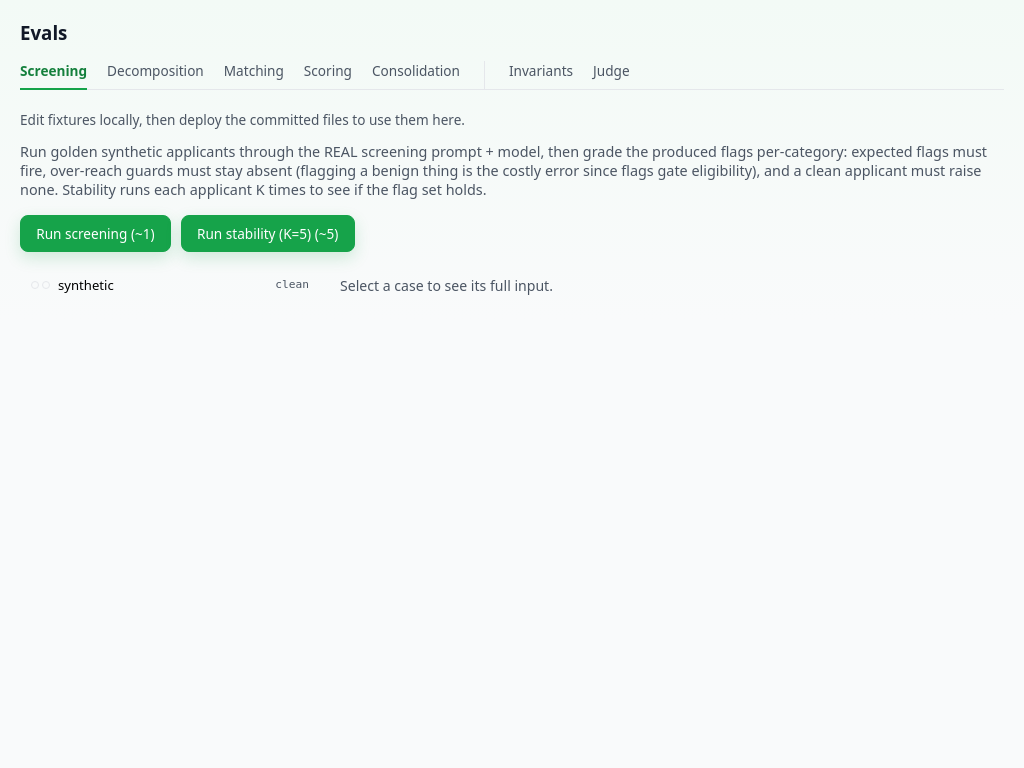
Test: keeps hosted cases and run controls while hiding every corpus write control
Expected: the text "Edit fixtures locally" is shown, [20,110,465,129]
Click the button "synthetic clean" at (86, 285), box [20,268,320,302]
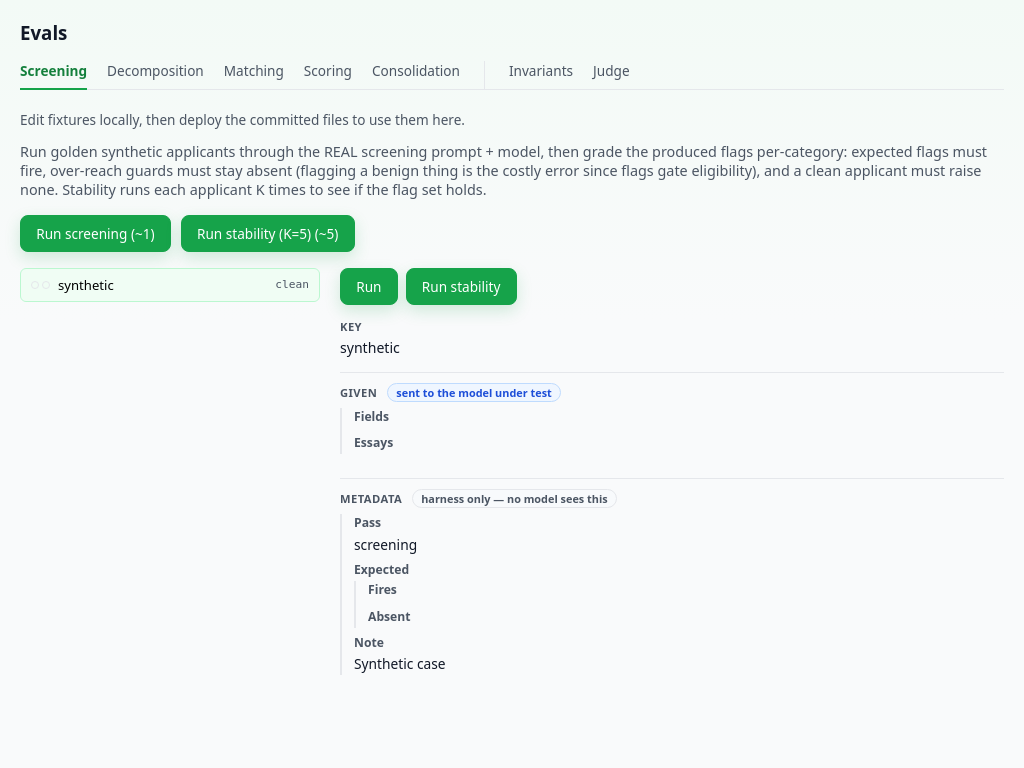
Click the button "Run screening (~1)" at (95, 233), box [20,215,171,252]
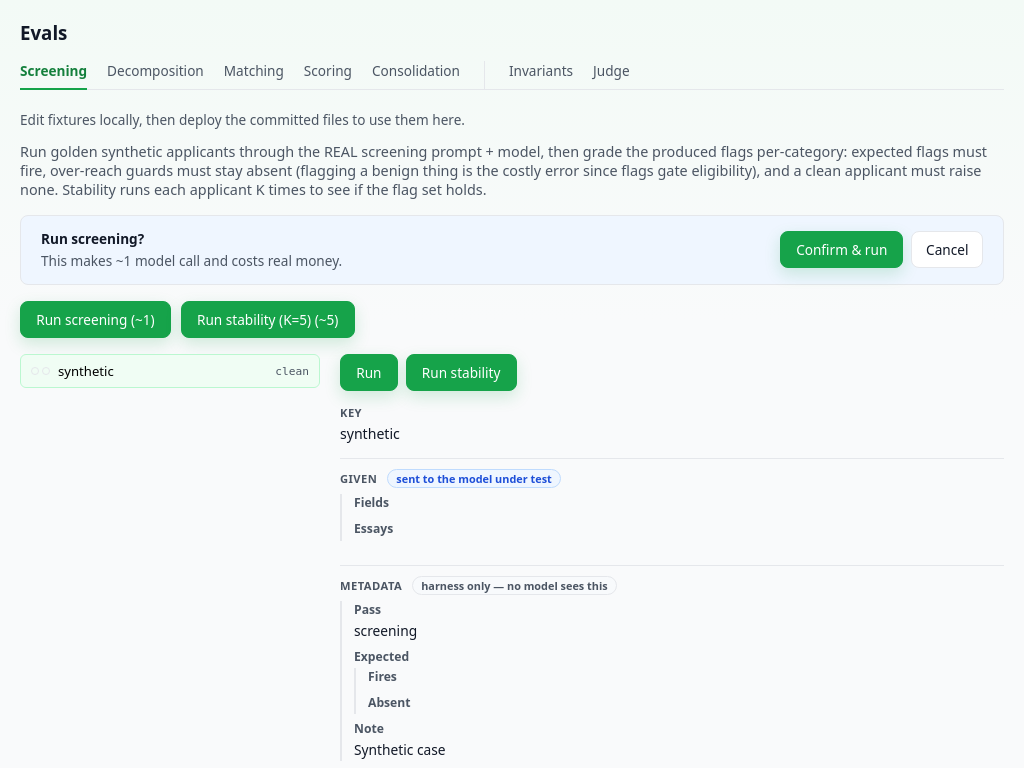
Result: the text "This makes ~1 model call and costs real money." is shown at [41,252,342,270]
Click the button "Cancel" at (947, 250), box [912,231,983,268]
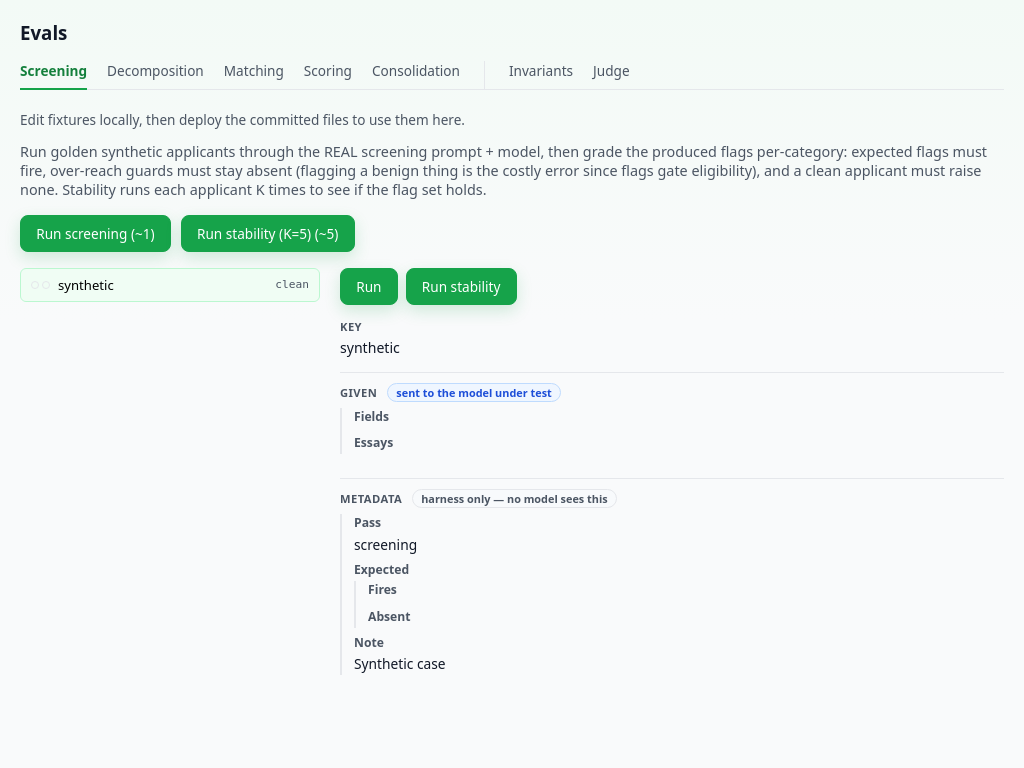
Click the tab "Judge" at (611, 76), box [593,61,630,90]
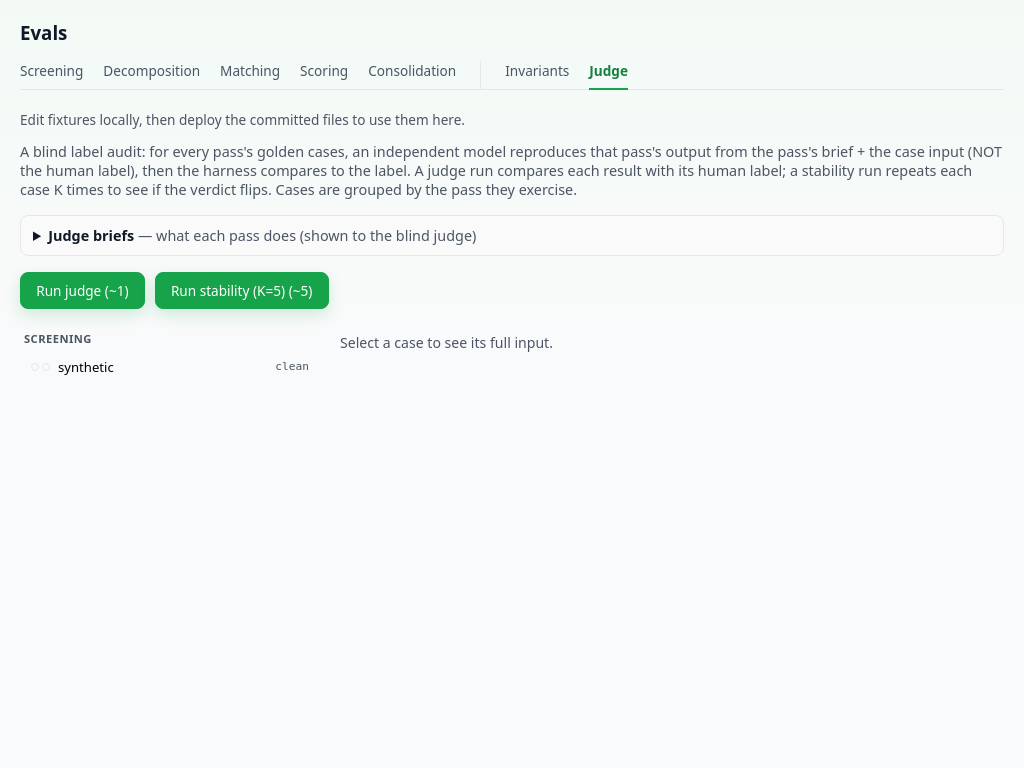
Result: the button "Run judge (~1)" is enabled at [20,272,145,309]
Click the tab "Invariants" at (537, 76), box [505,61,569,90]
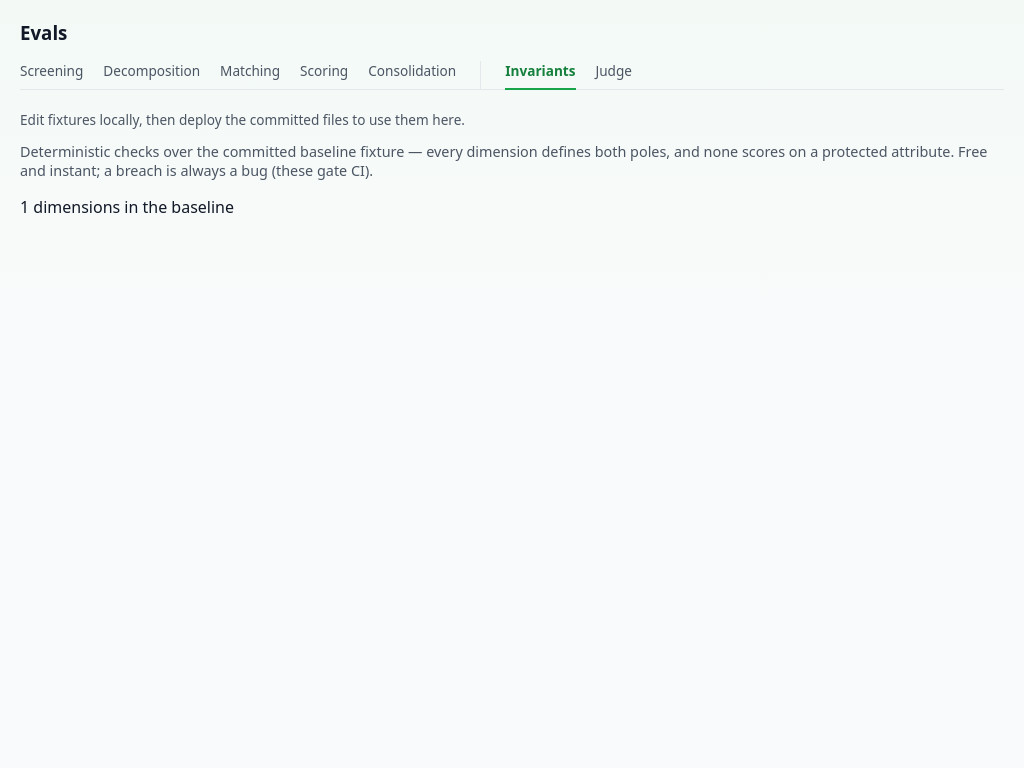
Result: the text "1 dimensions in the baseline" is shown at [20,196,234,218]
